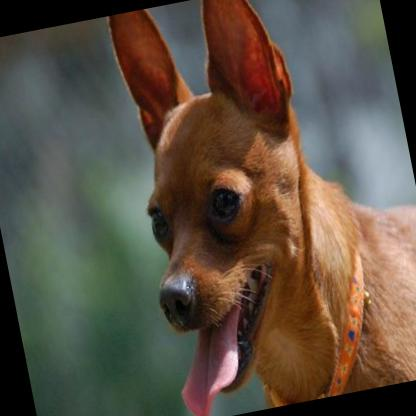miniature_pinscher: (97, 0, 416, 416)
